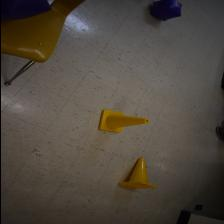cone: (118, 158, 157, 189), (96, 110, 148, 132)
cube: (0, 0, 51, 20), (149, 1, 181, 21)
